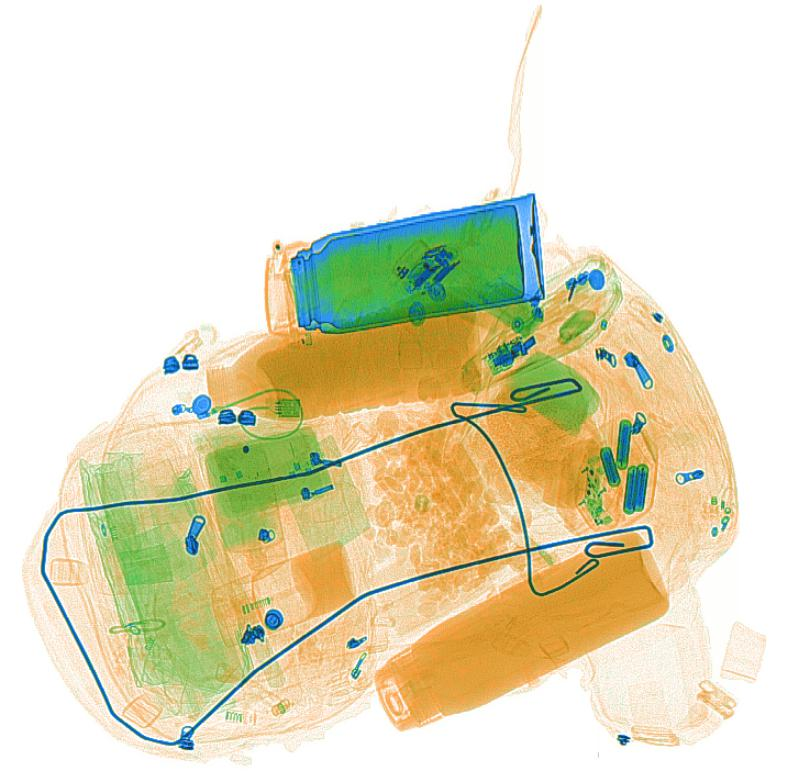battery: (623, 461, 650, 515), (613, 416, 632, 473), (598, 447, 621, 489)
plasticBottleWithaNozzle: (211, 536, 356, 652)
